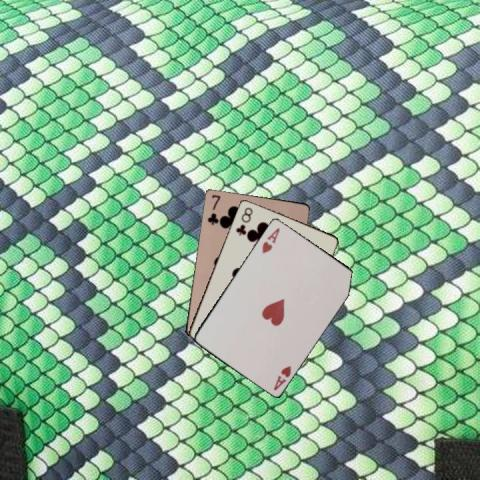7c: (205, 191, 221, 226)
8c: (233, 204, 254, 237)
Ah: (259, 224, 281, 255), (270, 363, 292, 391)
